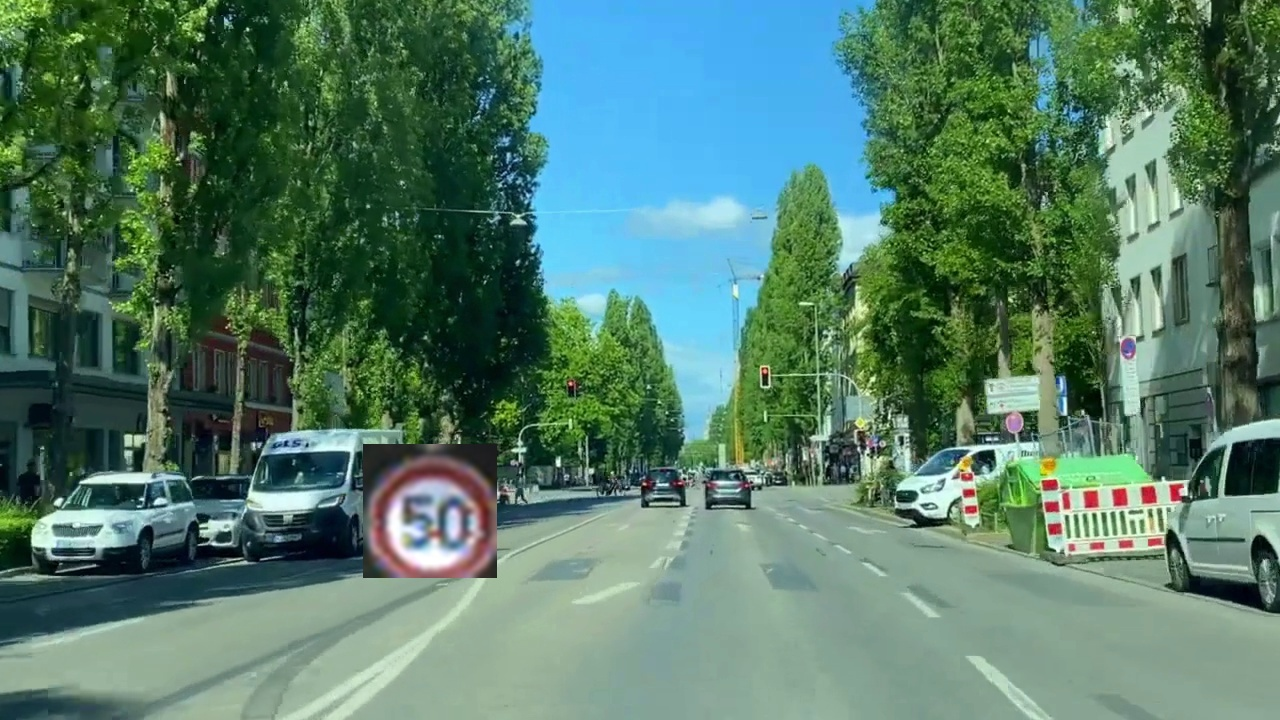Speed 50: (363, 444, 497, 578)
